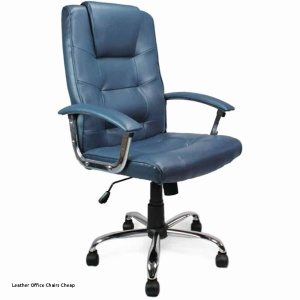chair: (61, 2, 244, 298)
